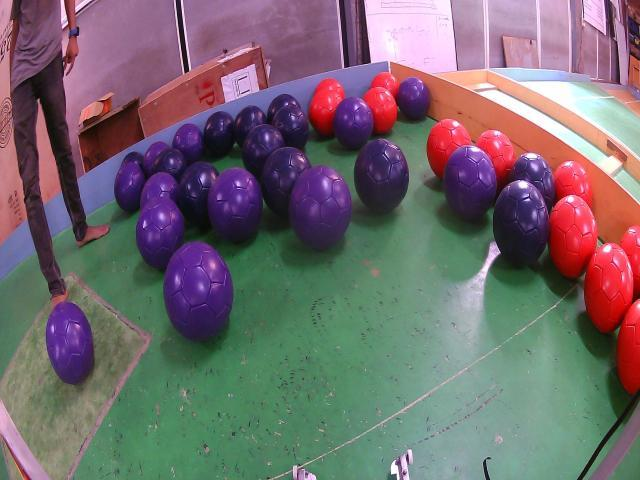jambhalya: (164, 242, 234, 340), (289, 165, 351, 250), (208, 167, 262, 243), (46, 302, 94, 385), (136, 197, 184, 270), (332, 97, 374, 150), (114, 162, 145, 212), (396, 77, 430, 120), (140, 172, 178, 208), (172, 123, 204, 165), (142, 142, 168, 178)
kaalyya: (492, 180, 549, 267), (354, 138, 409, 212), (442, 145, 496, 220), (261, 147, 311, 214), (509, 152, 555, 212), (178, 162, 219, 227), (242, 123, 285, 178), (271, 103, 309, 150), (204, 112, 235, 157), (234, 105, 266, 147), (151, 148, 186, 182), (266, 93, 300, 124), (122, 152, 144, 168)
